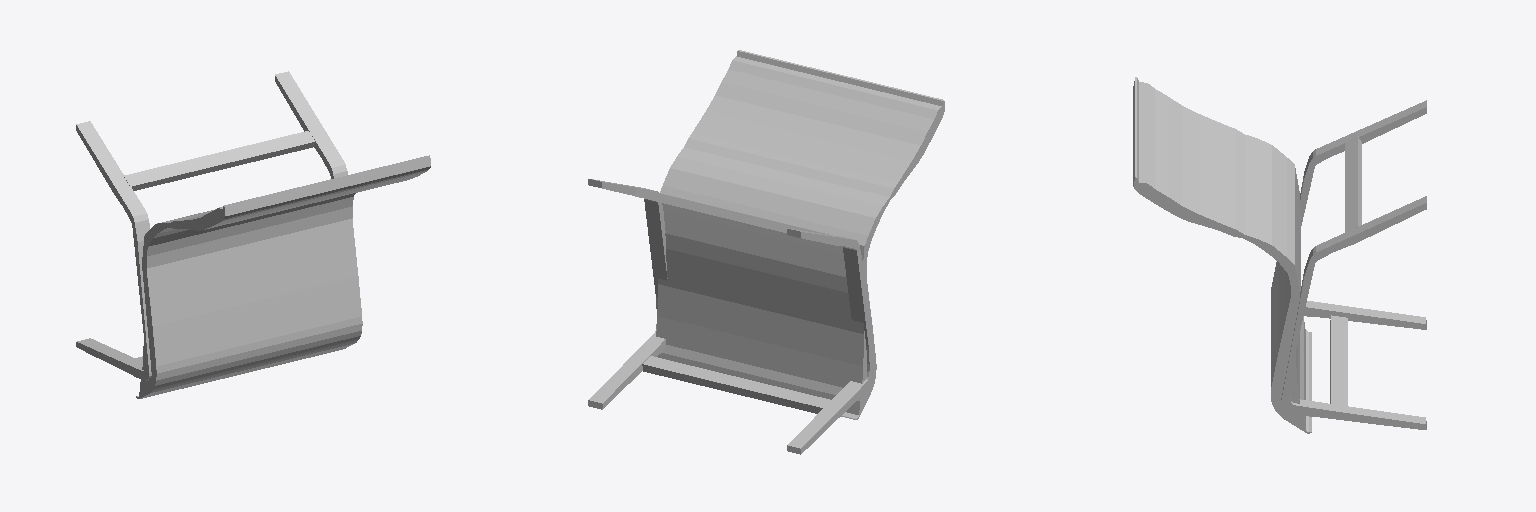
The model's file is OfficeChair_2.obj.
3 views of the same model, side by side, from view 1: azimuth 30°, elevation 25°; view 2: azimuth 150°, elevation 25°; view 3: azimuth 270°, elevation 25° (orthographic).
Parts seen in each view (by area): view 1: 设计图层-1; view 2: 设计图层-1; view 3: 设计图层-1.
Part boxes in pixels (bbox=[...]): 设计图层-1: bbox=[76, 71, 430, 398]; 设计图层-1: bbox=[588, 50, 944, 454]; 设计图层-1: bbox=[1133, 77, 1426, 433].
Size of the model in its own units: 0.6312 by 0.7287 by 0.754.